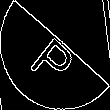P_NE: (27, 24, 83, 86)
